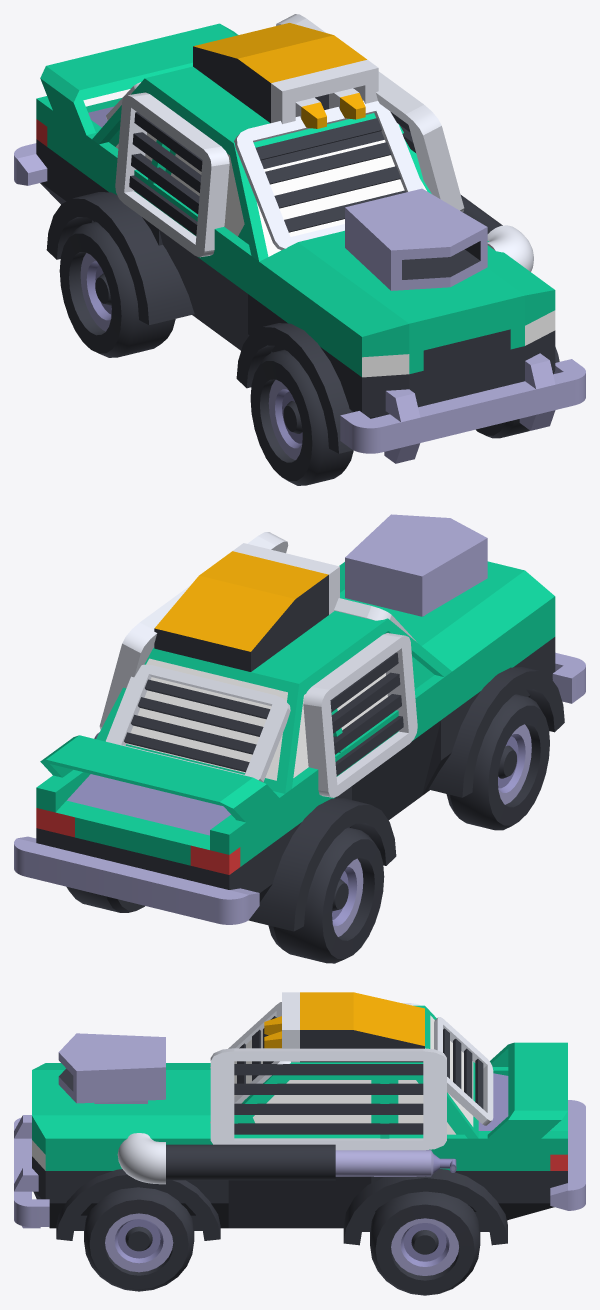
The model's file is Car.fbx.
3 views of the same model, one above another, from view 1: azimuth 30°, elevation 25°; view 2: azimuth 150°, elevation 25°; view 3: azimuth 270°, elevation 25° (orthographic). The views are drawn at different scales.
Parts seen in each view (by area): view 1: body_frontSUV, grate_square (×3), wheel_standard (×3), weapon_turretSmall, body_topStandard, wheel_coverStandard (×2), bumper_detailed, detail_engine, body_edge, spoiler_small, body_backFins, body_topBackStandard (+2 smaller); view 2: grate_square (×4), body_backFins, wheel_standard (×3), weapon_turretSmall, body_frontSUV, wheel_coverStandard (×2), detail_engine, body_topBackStandard, bumper, spoiler_small, body_edge, body_topStandard (+1 smaller); view 3: grate_square (×3), wheel_standard (×2), body_frontSUV, wheel_coverStandard (×2), body_backFins, weapon_turretSmall, body_edge, detail_engine, attachment_barrelThin, spoiler_small, body_topStandard, detail_exhaustVerticalThin (+4 smaller).
Part boxes in pixels (x1,y1,x2,y2): body_frontSUV: (259, 230, 555, 418); grate_square (×3): (115, 14, 464, 257); wheel_standard (×3): (59, 221, 529, 485); weapon_turretSmall: (193, 23, 378, 128); body_topStandard: (148, 83, 431, 261); wheel_coverStandard (×2): (46, 192, 352, 453); bumper_detailed: (340, 353, 585, 463); detail_engine: (345, 188, 487, 290); body_edge: (147, 180, 259, 350); spoiler_small: (40, 23, 238, 135); body_backFins: (36, 96, 147, 224); body_topBackStandard: (92, 66, 214, 161); grate_square (×4): (99, 532, 417, 797); body_backFins: (36, 752, 340, 902); wheel_standard (×3): (66, 694, 549, 963); weapon_turretSmall: (154, 543, 339, 671); body_frontSUV: (339, 561, 555, 749); wheel_coverStandard (×2): (248, 667, 564, 931); detail_engine: (345, 514, 487, 616); body_topBackStandard: (96, 648, 323, 793); bumper: (14, 836, 259, 924); spoiler_small: (40, 735, 278, 822); body_edge: (340, 672, 452, 827); body_topStandard: (273, 611, 451, 752); grate_square (×3): (210, 1002, 493, 1150); wheel_standard (×2): (84, 1187, 480, 1295); body_frontSUV: (32, 1063, 210, 1228); wheel_coverStandard (×2): (56, 1169, 507, 1245); body_backFins: (389, 1067, 567, 1220); weapon_turretSmall: (264, 992, 424, 1062); body_edge: (210, 1134, 382, 1228); detail_engine: (58, 1033, 165, 1103); attachment_barrelThin: (166, 1144, 335, 1180); spoiler_small: (487, 1042, 567, 1138); body_topStandard: (234, 1017, 389, 1138); detail_exhaustVerticalThin: (335, 1150, 456, 1176).
Size of the model in its own units: 14.05 by 15.08 by 32.
